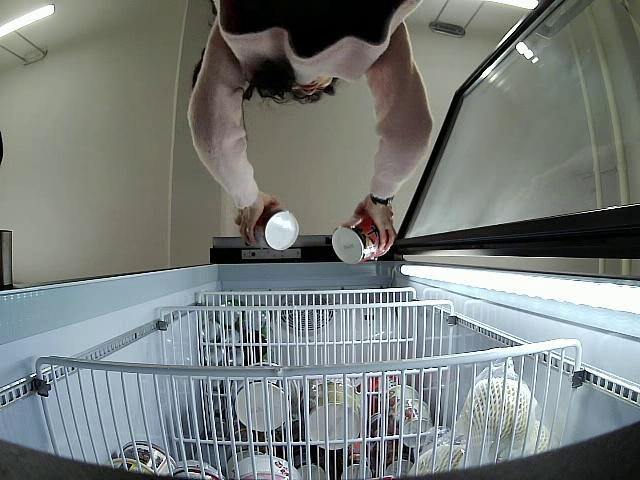01_ShinRamen_L: (331, 214, 394, 262), (244, 208, 298, 250)
